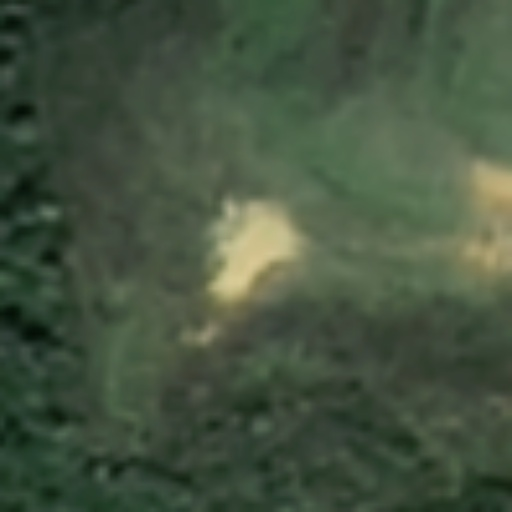landslide: (208, 195, 300, 300)
